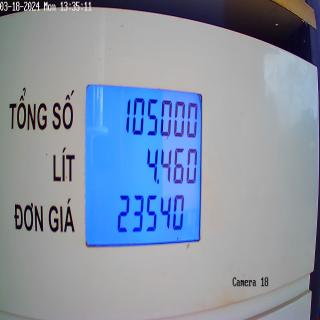screen: (82, 78, 205, 248)
